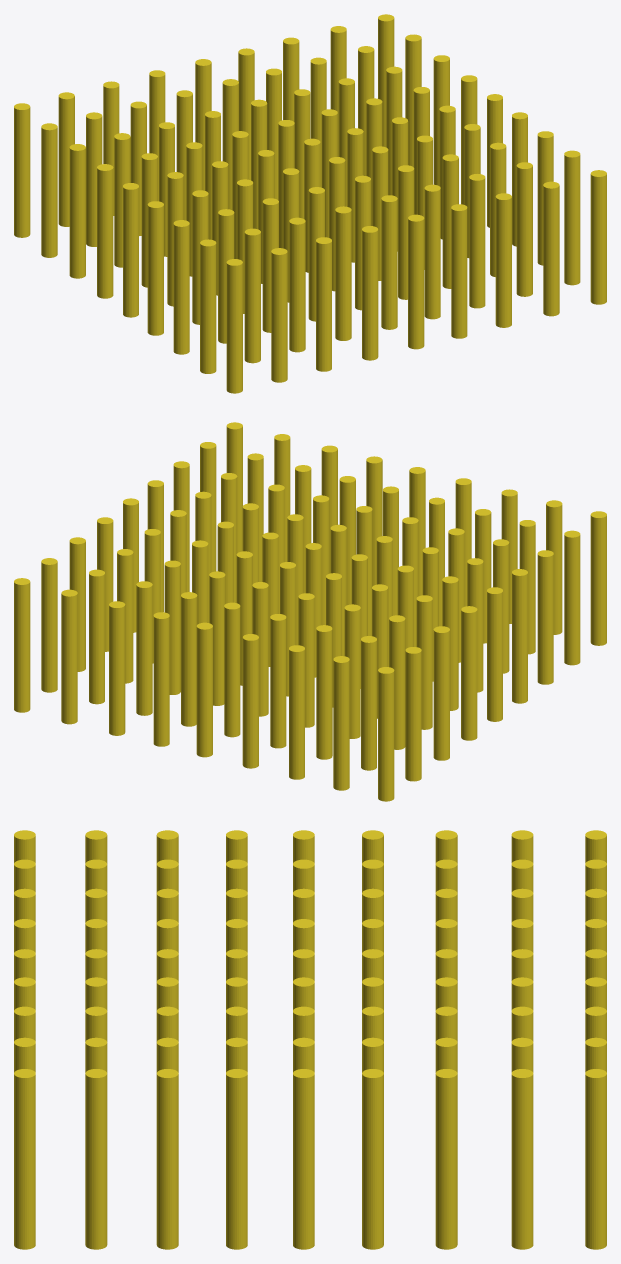
Rendered from GrainField.fbx.
3 views of the same model, one above another, from view 1: azimuth 30°, elevation 25°; view 2: azimuth 150°, elevation 25°; view 3: azimuth 270°, elevation 25° (orthographic). The views are drawn at different scales.
Parts seen in each view (by area): view 1: Cylinder.072; view 2: Cylinder.072; view 3: Cylinder.072.
Part boxes in pixels (x1,y1,x2,y2): Cylinder.072: (14,14,606,393); Cylinder.072: (14,422,606,801); Cylinder.072: (14,830,606,1249).
Bounding box in the file's own units: 172 × 55.68 × 174.
